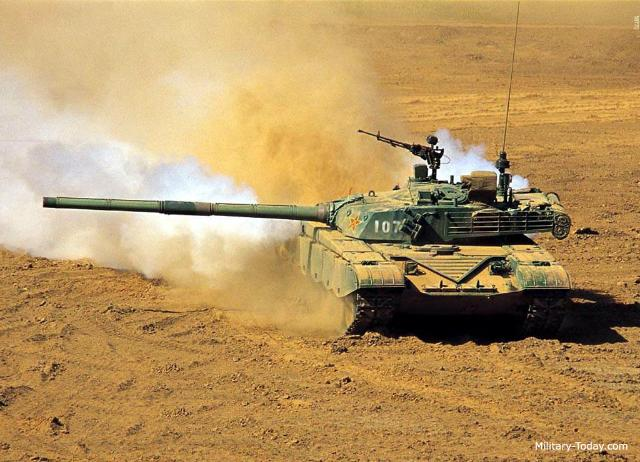tank: (306, 174, 568, 332)
